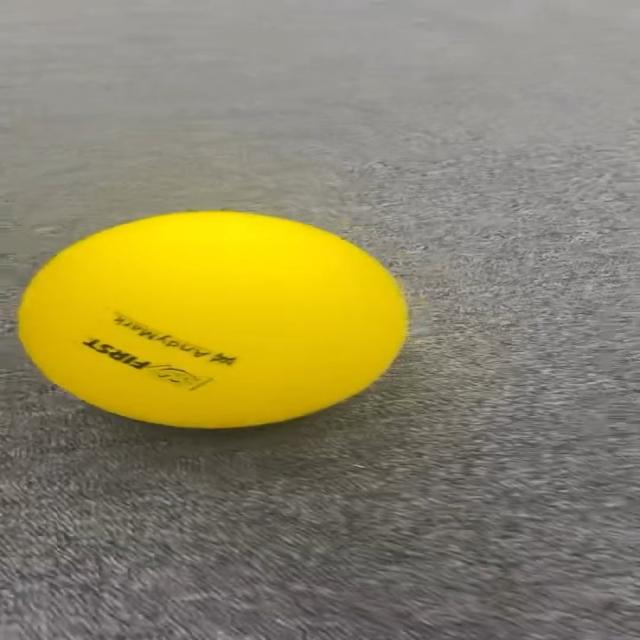Fuels: (18, 212, 409, 426)
